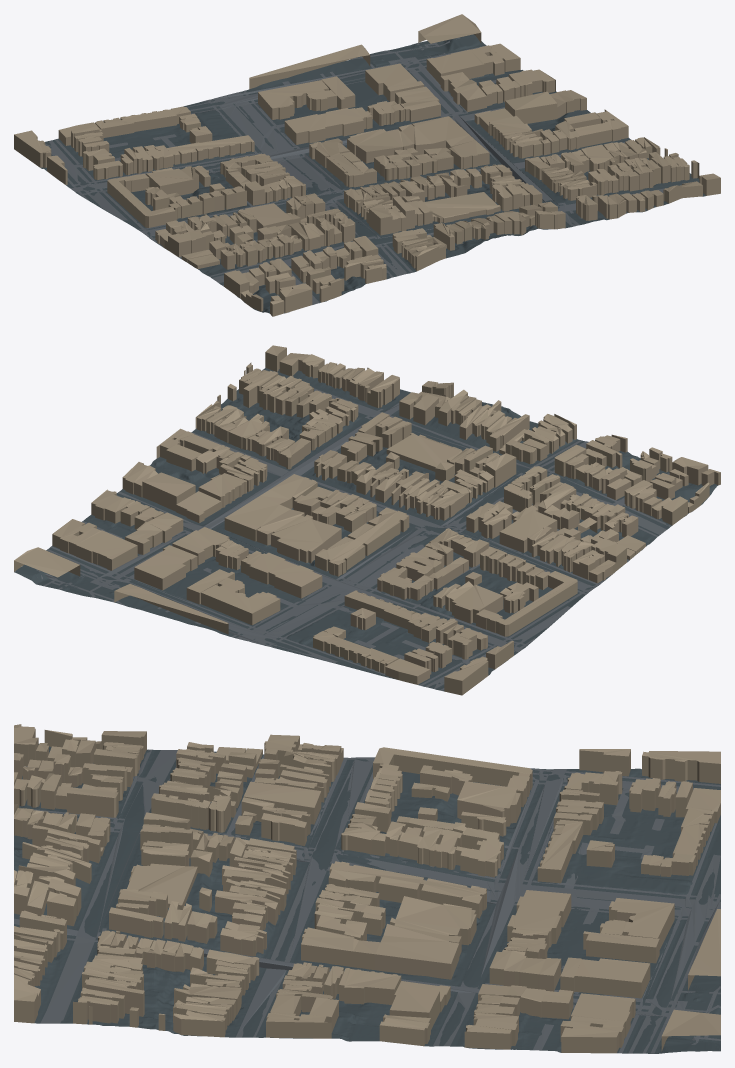
Rendered from epsg26910-1432-10891.lod0.glb.
3 renders of one model, top to bottom at view 1: azimuth 30°, elevation 25°; view 2: azimuth 150°, elevation 25°; view 3: azimuth 270°, elevation 25°, orthographic. The views are drawn at different scales.
Visible parts, largest first — view 1: epsg26910-1432-10891-lod0; view 2: epsg26910-1432-10891-lod0; view 3: epsg26910-1432-10891-lod0.
Part boxes in pixels (box(x1,y1,x2,y2)): epsg26910-1432-10891-lod0: box(14, 14, 720, 316); epsg26910-1432-10891-lod0: box(14, 345, 720, 695); epsg26910-1432-10891-lod0: box(14, 724, 720, 1053).
Bounding box in the file's own units: 384 × 48.24 × 384.
